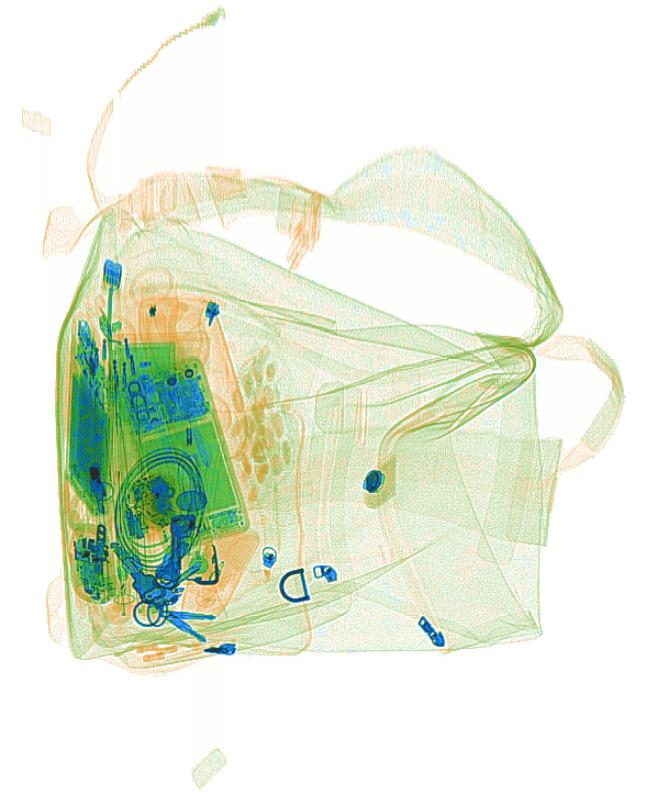plasticBottleWithaNozzle: (178, 518, 262, 623)
